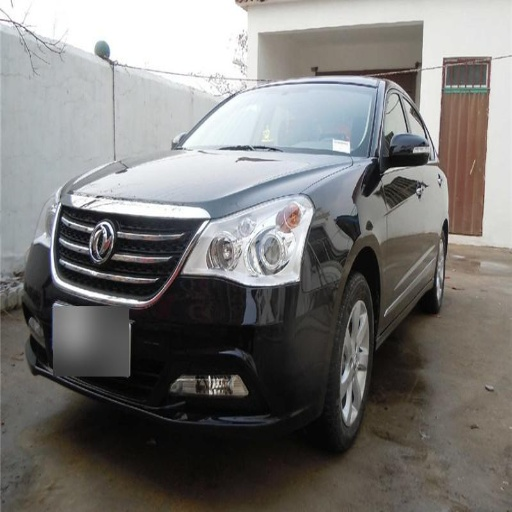front_bumper: (30, 192, 325, 428)
front_glass: (182, 84, 373, 155)
front_left_door: (378, 88, 422, 310)
